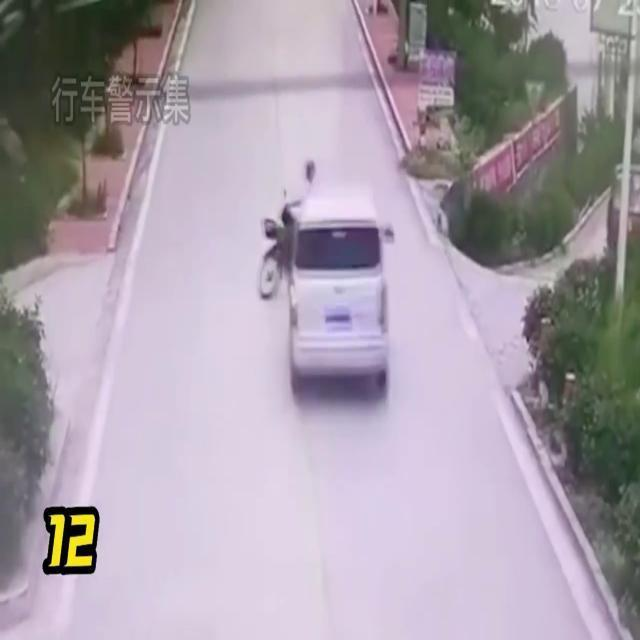accident: (257, 158, 397, 404)
